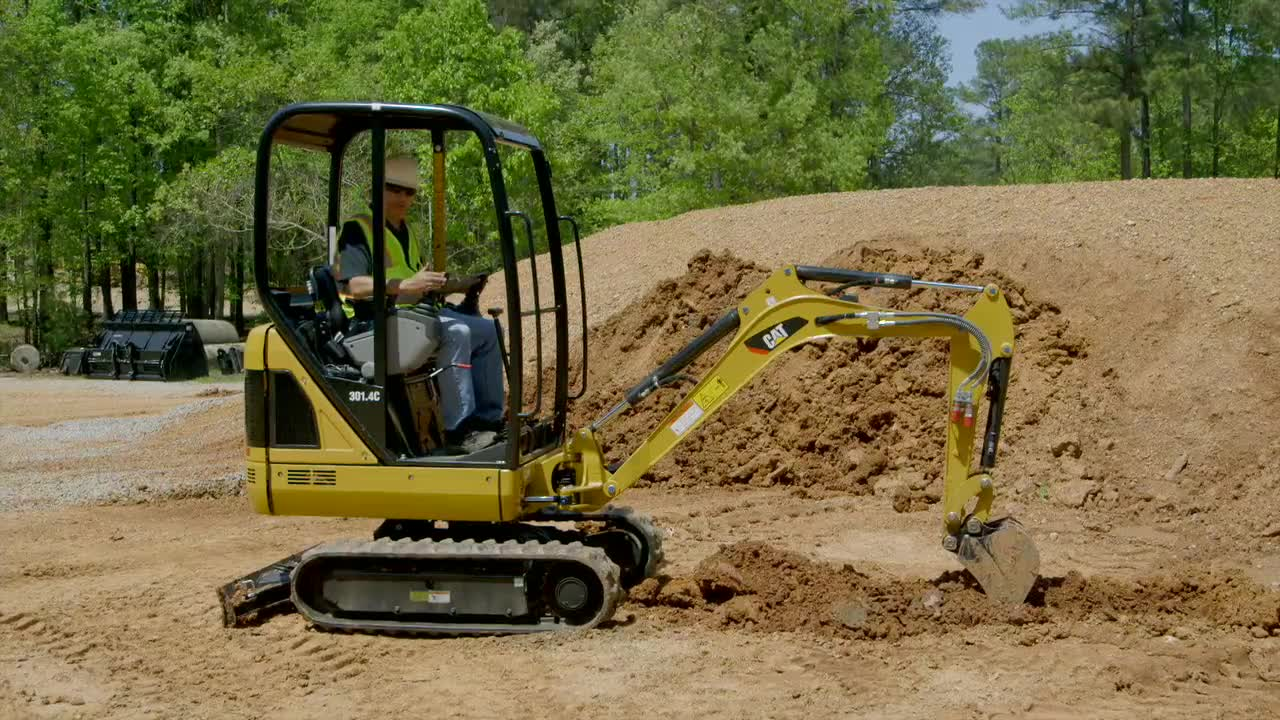attachment-bucket: (944, 506, 1053, 618)
cabin: (235, 97, 596, 526)
forearm: (939, 284, 1012, 540)
upperarm: (606, 283, 963, 499)
wheelbase: (272, 506, 667, 643)
